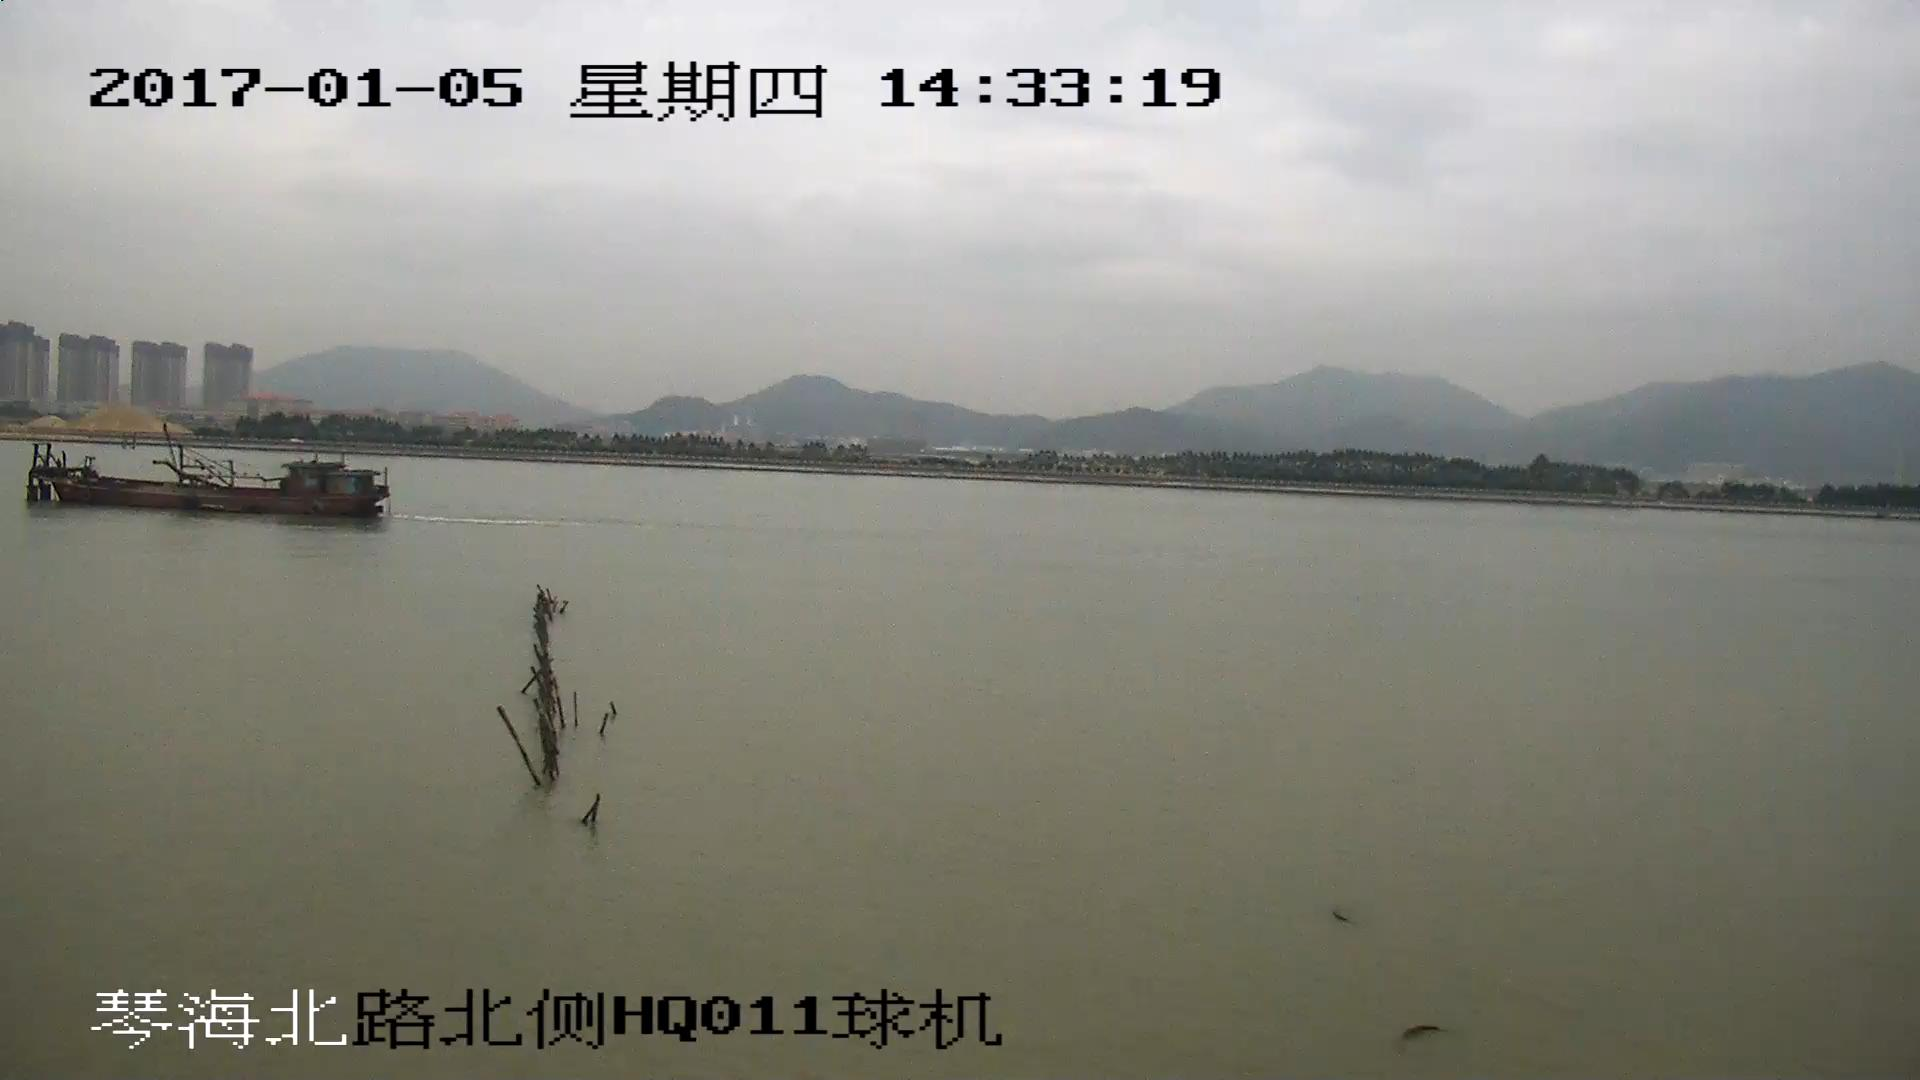fishing boat: (27, 424, 395, 523)
